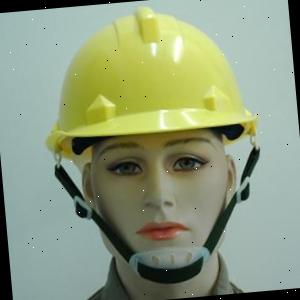helmet: (33, 0, 262, 167)
